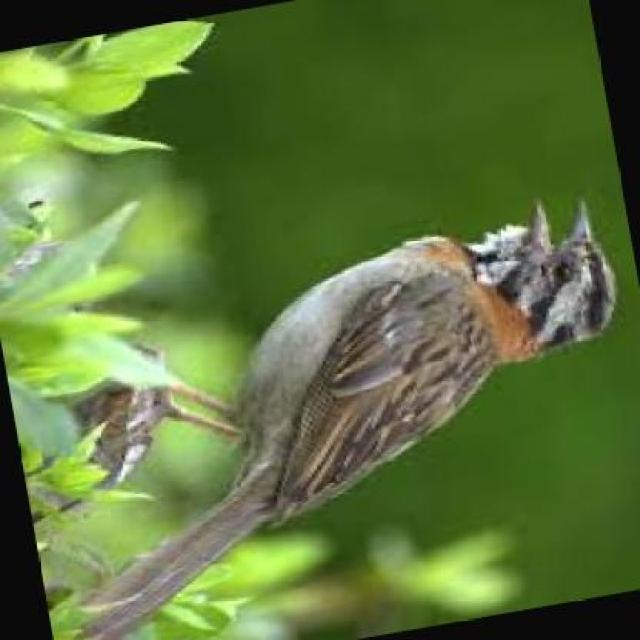Bird: (76, 192, 622, 640)
